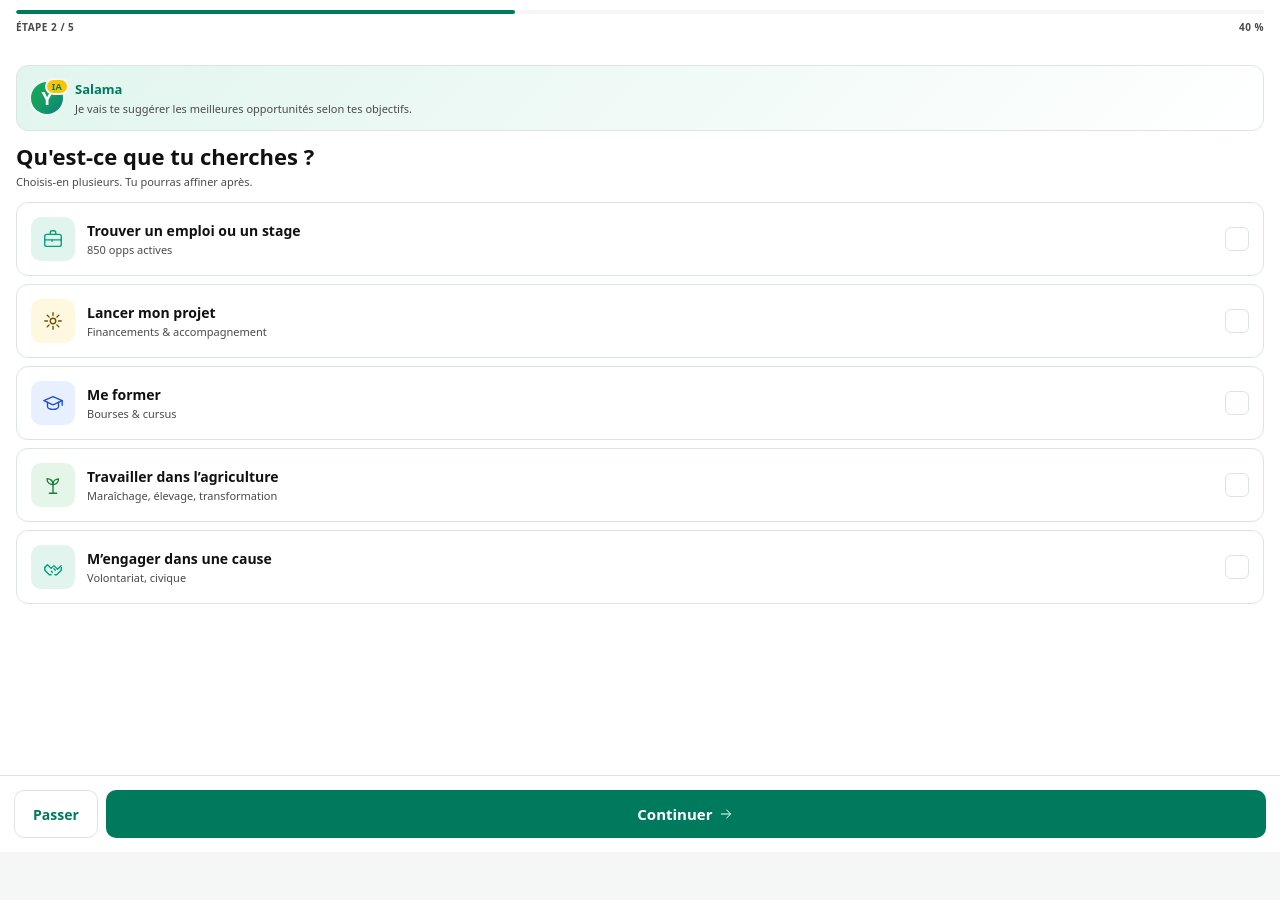
Scenario: <OnboardingObjectifs /> — écran 3/5 › CTA primaire affiche le compteur
Click the button "Lancer mon projet Financements & accompagnement". click: (53, 321)
box: x1=16 y1=284 x2=1264 y2=358
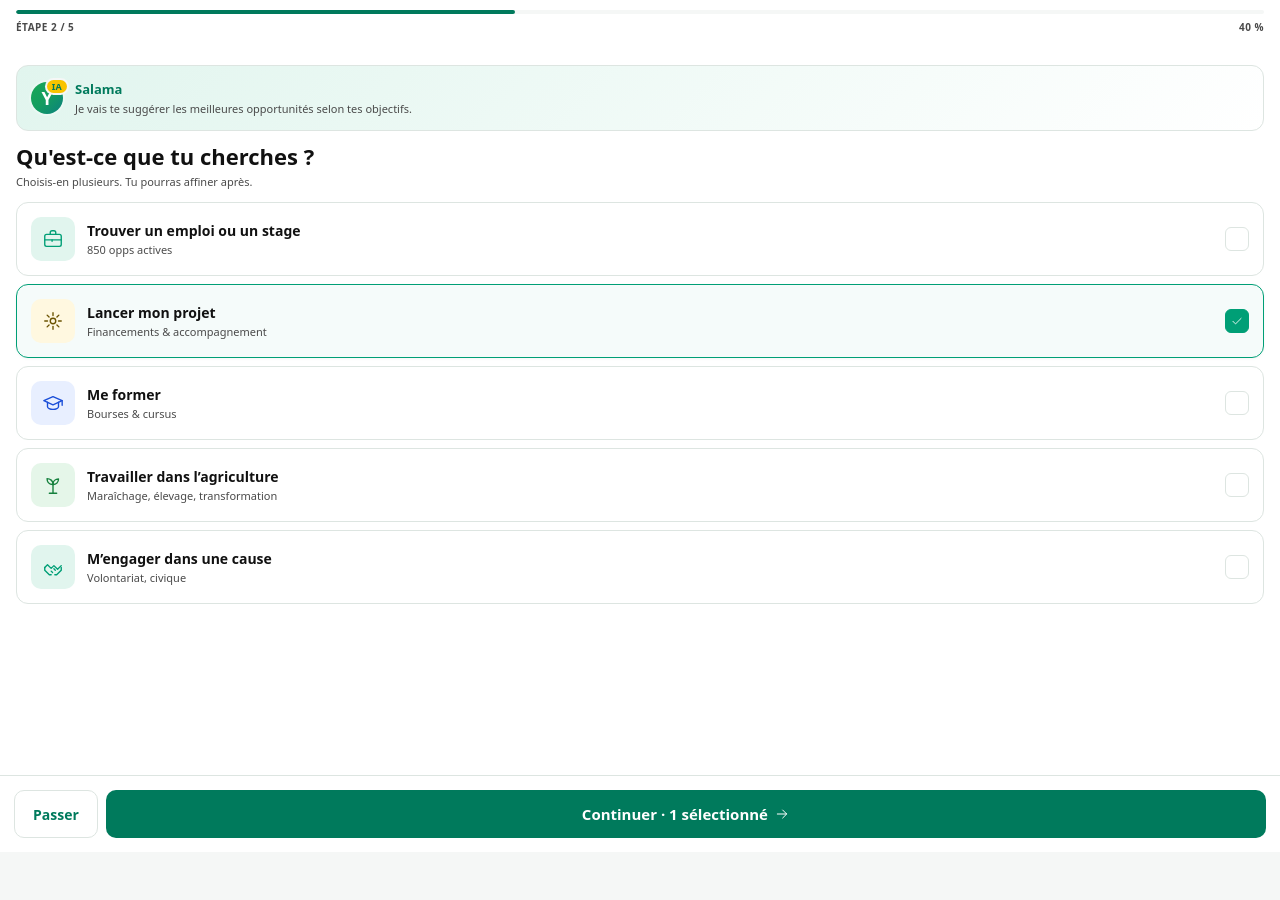
Click the button "Me former Bourses & cursus". click: (53, 403)
box: x1=16 y1=366 x2=1264 y2=440
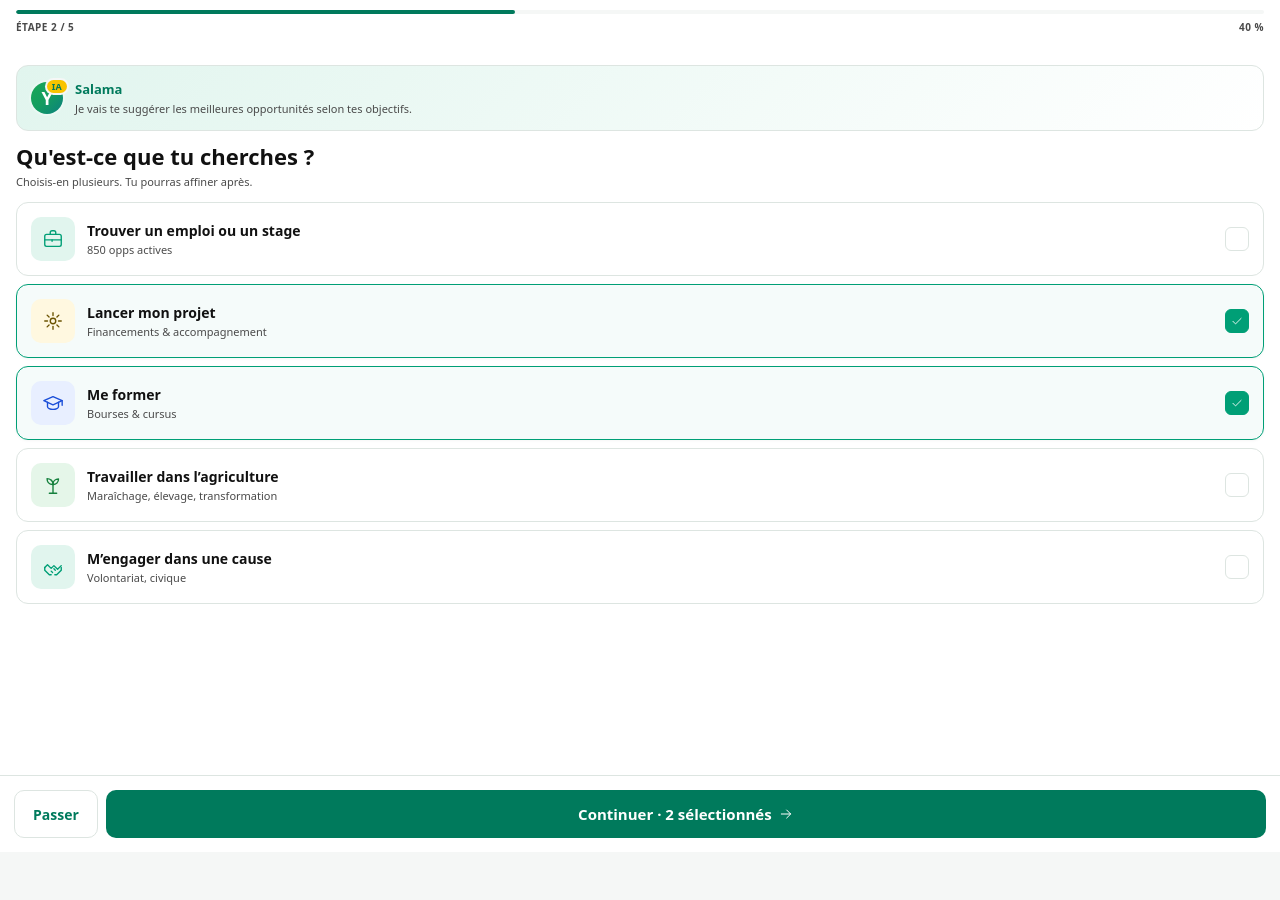
Result: the button "Continuer · 2 sélectionnés" is shown at x1=106 y1=790 x2=1266 y2=838
